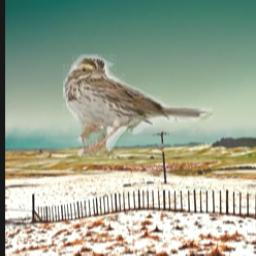Sparrow: (64, 54, 214, 156)
